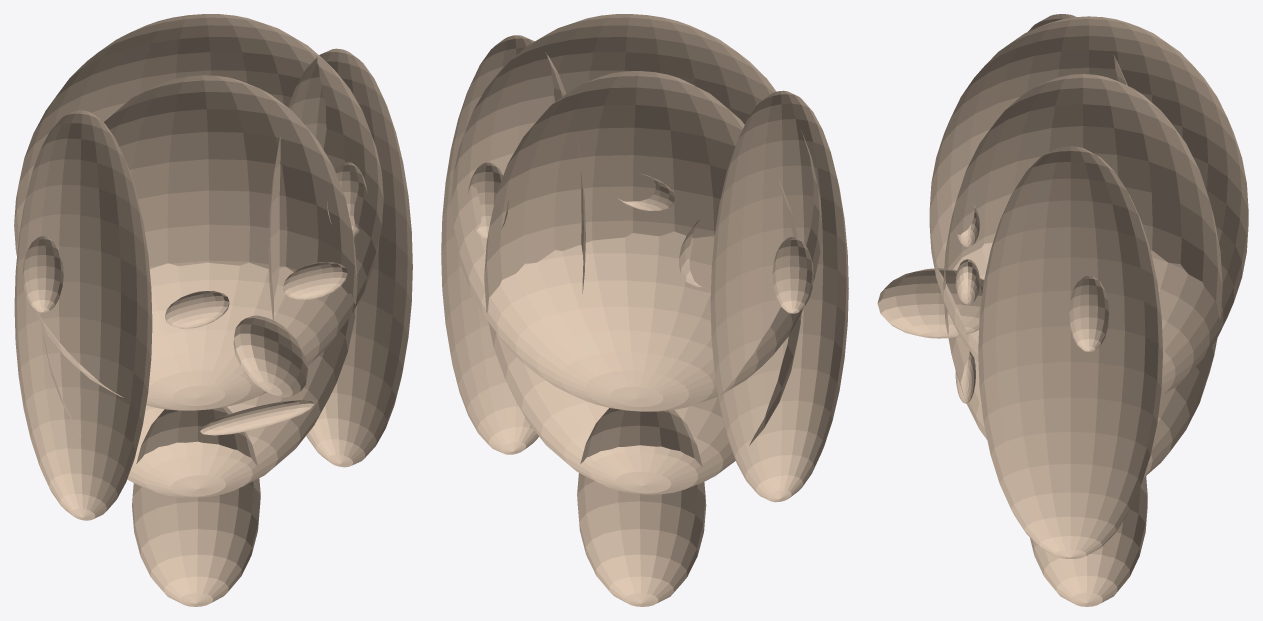
The model's file is kim-novak-face.glb.
3 views of the same model, side by side, from view 1: azimuth 30°, elevation 25°; view 2: azimuth 150°, elevation 25°; view 3: azimuth 270°, elevation 25° (orthographic).
Parts seen in each view (by area): view 1: Kim Novak portrait; view 2: Kim Novak portrait; view 3: Kim Novak portrait.
Boxes of the visible parts, left/top/right/bottom form: Kim Novak portrait: left=14, top=14, right=412, bottom=606; Kim Novak portrait: left=441, top=14, right=848, bottom=606; Kim Novak portrait: left=877, top=14, right=1248, bottom=606.
Size of the model in its own units: 2.07 by 3.07 by 1.81.
